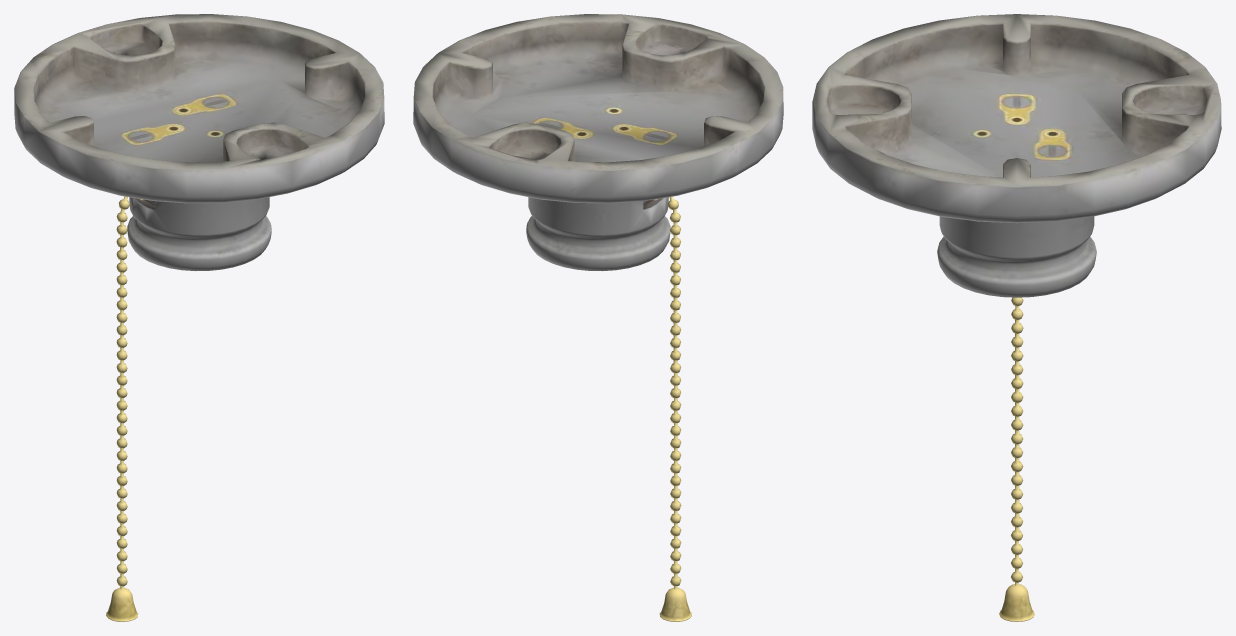
Rendered from pull_chain_light_socket.glb.
3 views of the same model, side by side, from view 1: azimuth 30°, elevation 25°; view 2: azimuth 150°, elevation 25°; view 3: azimuth 270°, elevation 25° (orthographic). The views are drawn at different scales.
Visible parts, largest first — view 1: pull_chain_light_socket; view 2: pull_chain_light_socket; view 3: pull_chain_light_socket.
Boxes of the visible parts, box(x1,y1,x2,y2) form: pull_chain_light_socket: box(14, 14, 384, 621); pull_chain_light_socket: box(413, 14, 783, 621); pull_chain_light_socket: box(812, 14, 1221, 621).
Size of the model in its own units: 0.1103 by 0.1654 by 0.1103.
1 material, 1 textured.
